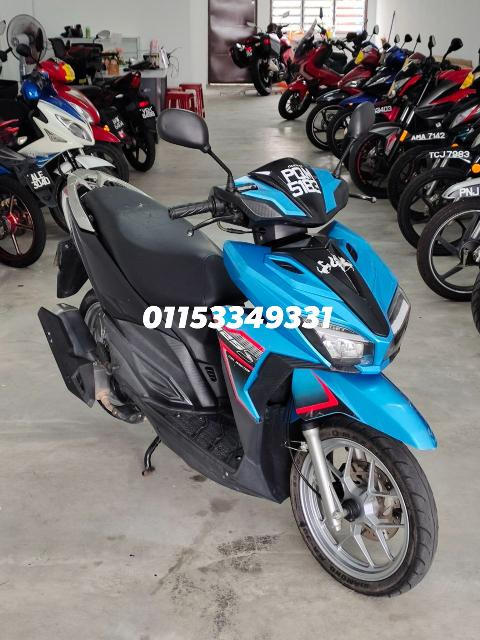License_Plate: (276, 163, 326, 204)
motorcycle: (38, 108, 441, 598)
